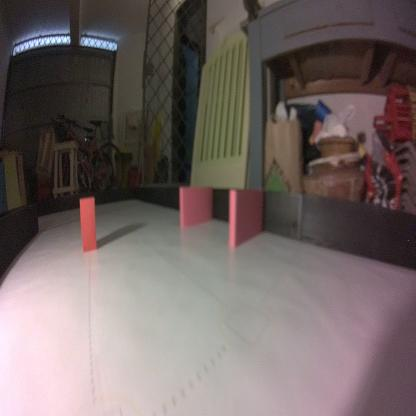magenta: (226, 186, 265, 252), (178, 184, 214, 227)
red: (78, 191, 98, 253)
